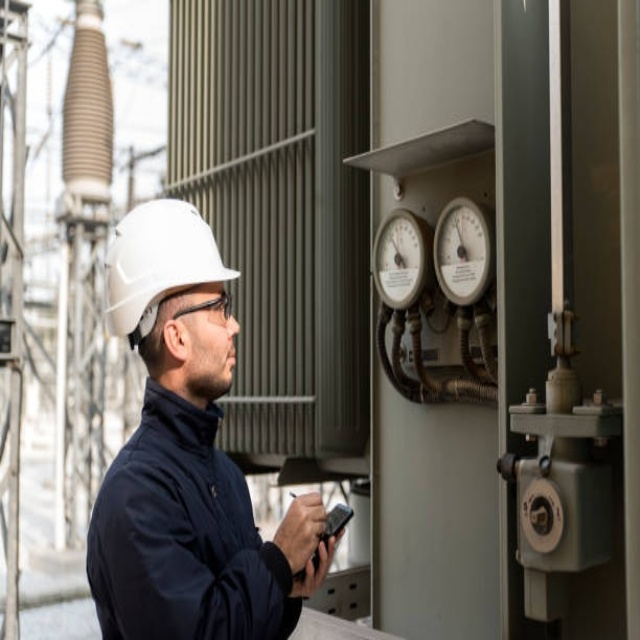Gafas: (164, 289, 235, 331)
Sin_guantes: (274, 488, 327, 562), (297, 530, 340, 597)
Sin_mascara: (204, 337, 241, 383)
